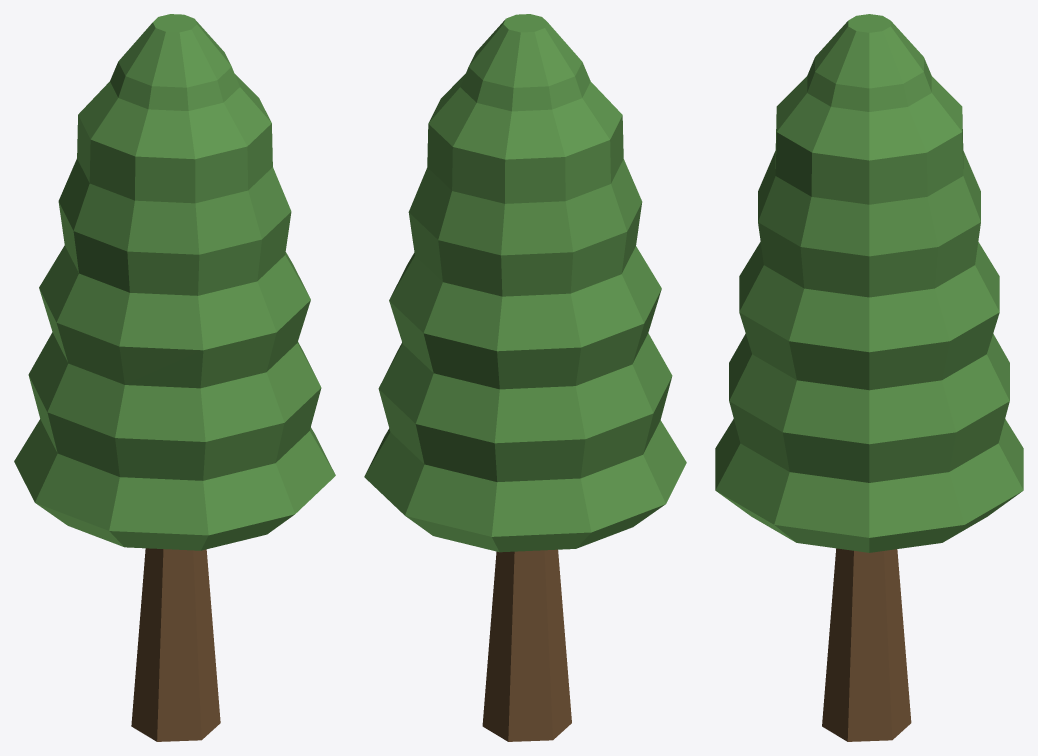
The model's file is tree3d-103.glb.
3 renders of one model, left to right at view 1: azimuth 30°, elevation 25°; view 2: azimuth 150°, elevation 25°; view 3: azimuth 270°, elevation 25°, orthographic.
Visible parts, largest first — view 1: tree3d-103; view 2: tree3d-103; view 3: tree3d-103.
Boxes of the visible parts, <box> form: tree3d-103: <box>14,14,335,741</box>; tree3d-103: <box>364,14,686,741</box>; tree3d-103: <box>715,14,1023,741</box>.
Bounding box in the file's own units: 0.4188 × 1 × 0.3983.
